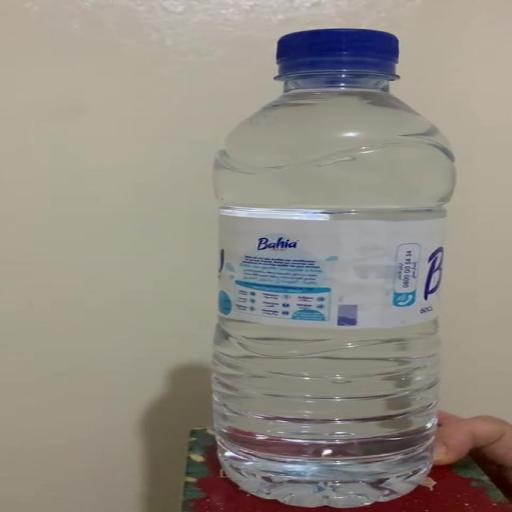bouteille conformite: (213, 28, 454, 507)
